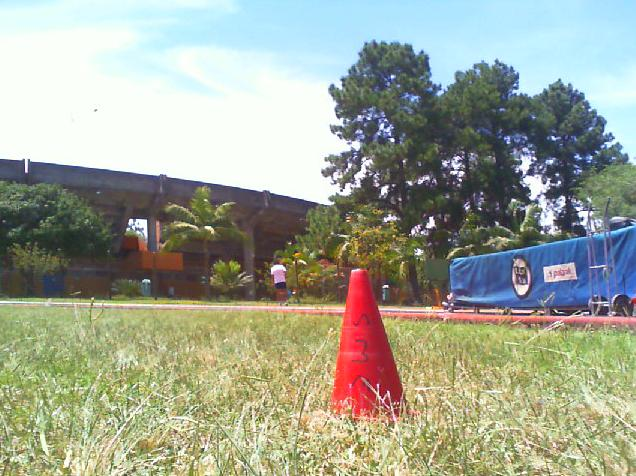0 cone: (326, 269, 412, 418)
